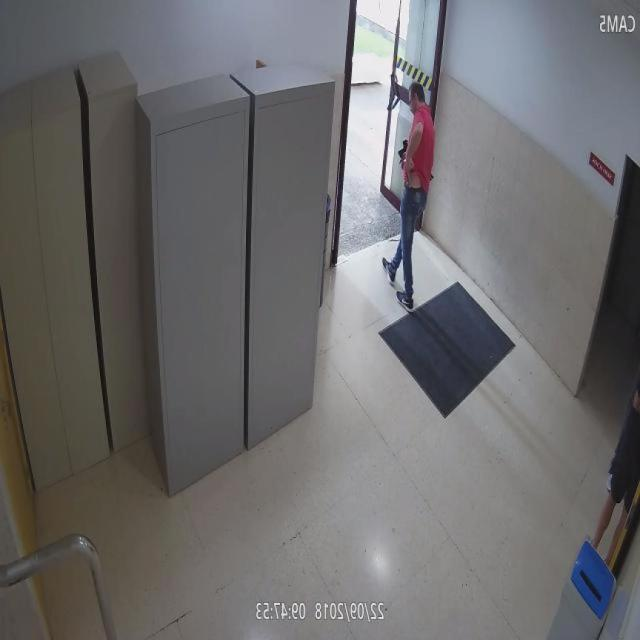pistol: (403, 156, 413, 191)
